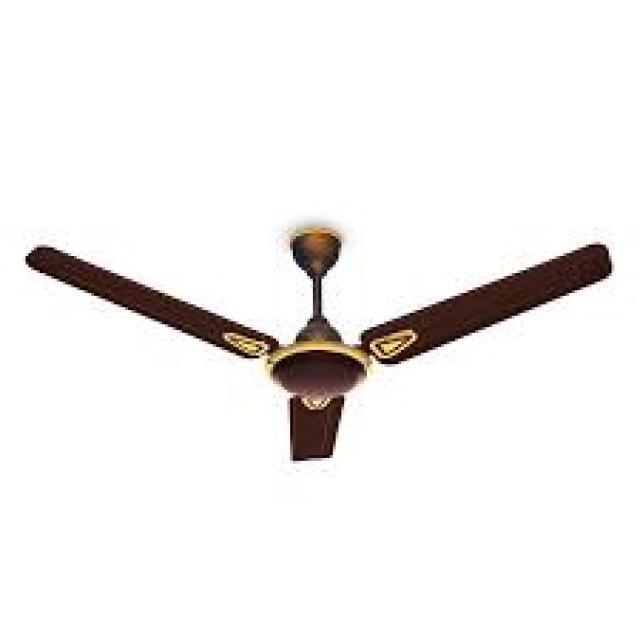fan_off: (21, 219, 616, 464)
